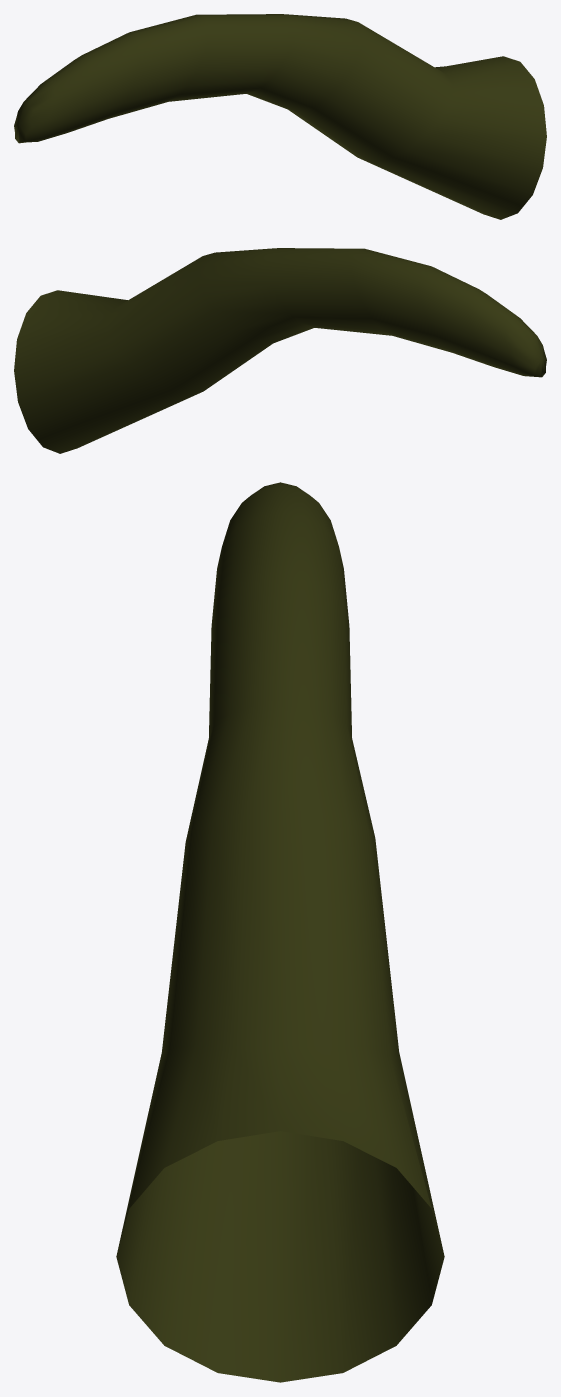
The model's file is tree_branch.fbx.
3 renders of one model, top to bottom at view 1: azimuth 30°, elevation 25°; view 2: azimuth 150°, elevation 25°; view 3: azimuth 270°, elevation 25°, orthographic. The views are drawn at different scales.
Parts seen in each view (by area): view 1: tree_branch; view 2: tree_branch; view 3: tree_branch.
Boxes of the visible parts, <box> form: tree_branch: <box>14,14,546,219</box>; tree_branch: <box>14,248,546,453</box>; tree_branch: <box>116,482,444,1382</box>.
Size of the model in its own units: 143 by 72.28 by 40.42.
